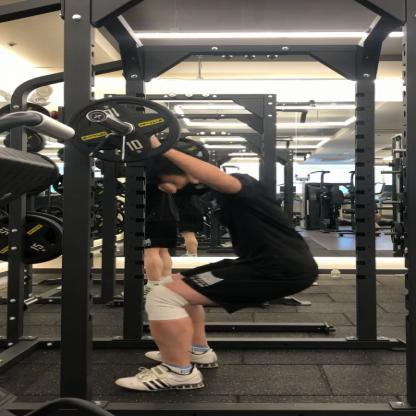barbell: (65, 96, 211, 173)
